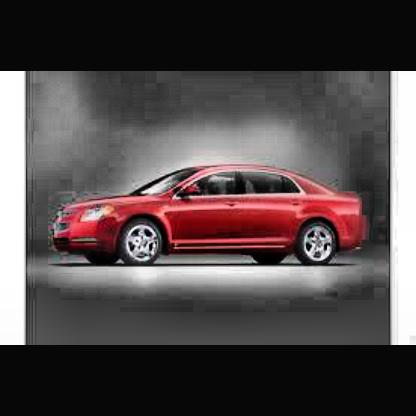Chevrolet Malibu Hybrid Sedan 2010: (55, 165, 371, 270)
